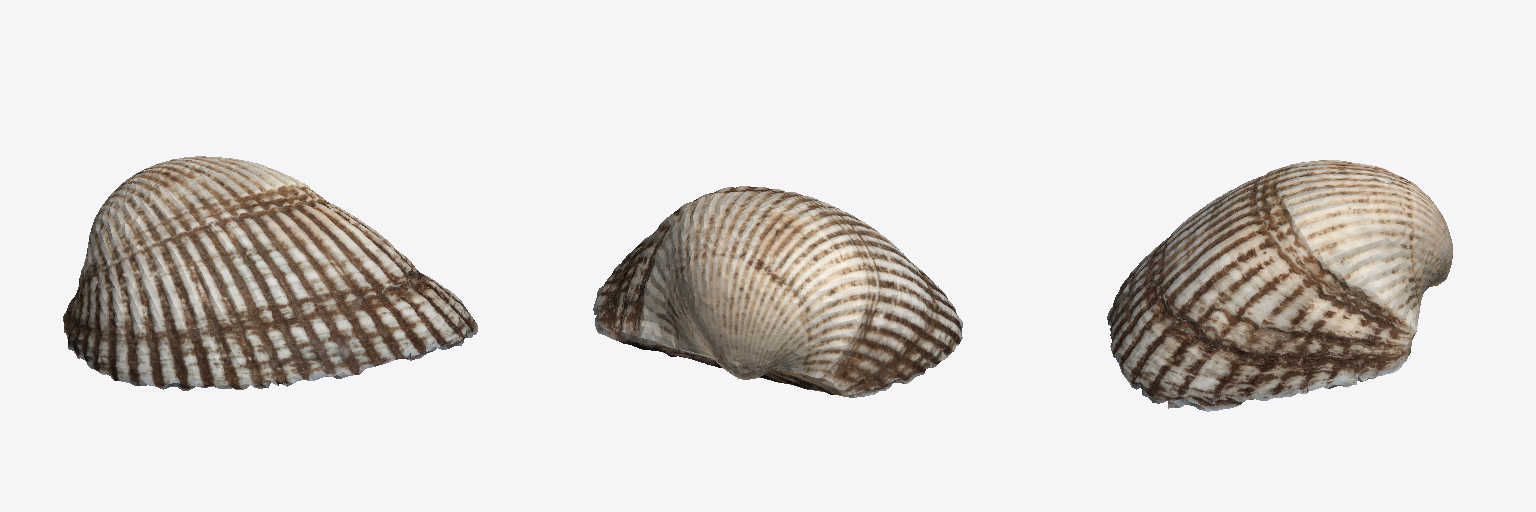
3 renders of one model, left to right at view 1: azimuth 30°, elevation 25°; view 2: azimuth 150°, elevation 25°; view 3: azimuth 270°, elevation 25°, orthographic.
Parts seen in each view (by area): view 1: Obj3d66_[number redacted]_37_986; view 2: Obj3d66_[number redacted]_37_986; view 3: Obj3d66_[number redacted]_37_986.
Boxes of the visible parts, <box> form: Obj3d66_[number redacted]_37_986: <box>63,156,477,390</box>; Obj3d66_[number redacted]_37_986: <box>593,186,962,397</box>; Obj3d66_[number redacted]_37_986: <box>1107,160,1452,411</box>.
Bounding box in the file's own units: 59.98 × 23.88 × 52.28.
1 materials, 1 textured.